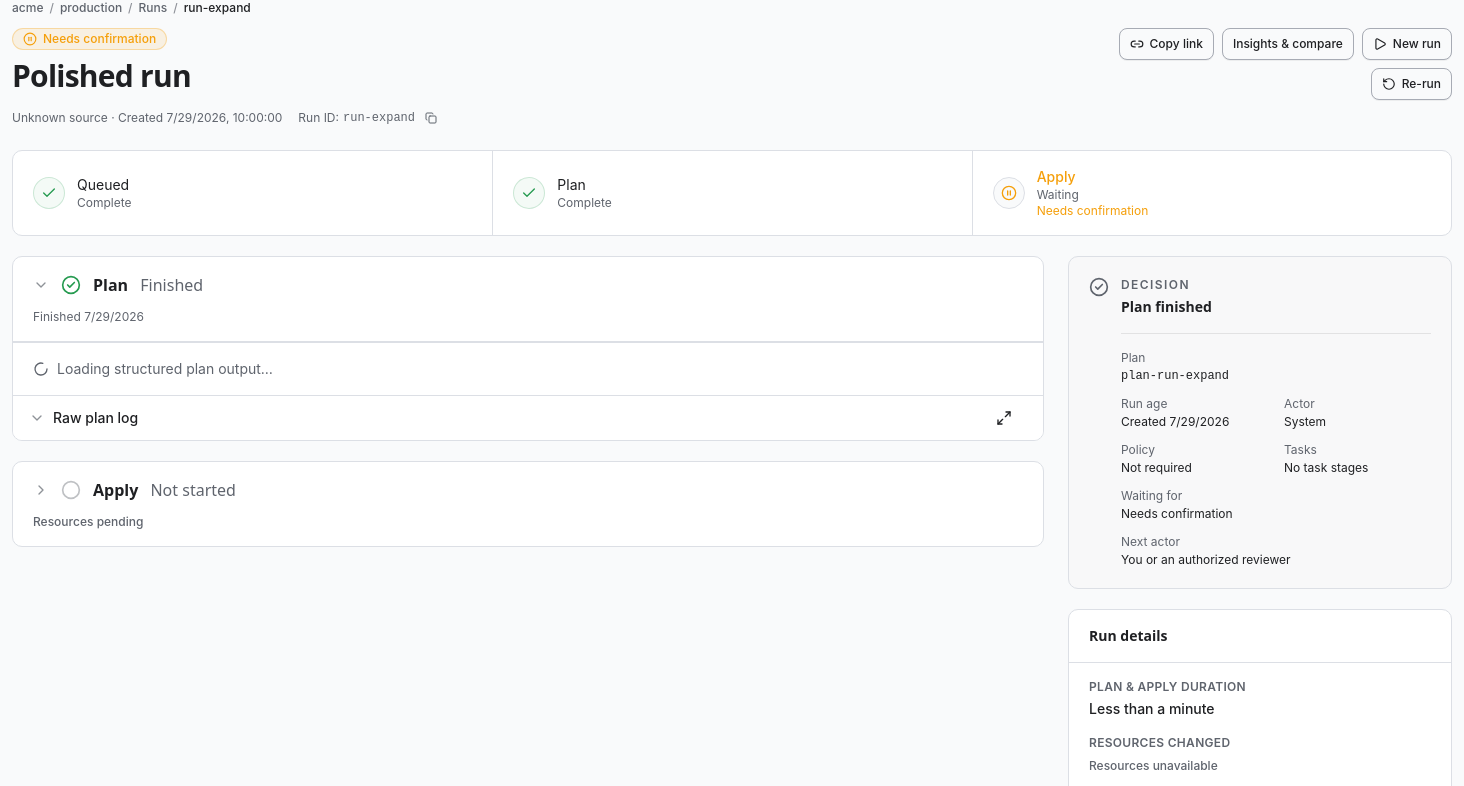
Test: an explicit apply collapse survives the apply starting
expect the element showing "Apply Not started Resources pending" is shown: met, box [12, 461, 1044, 547]
Click the heading "Apply Not started Resources pending". click: click(134, 504)
box: [33, 479, 236, 529]
(page scrolled)
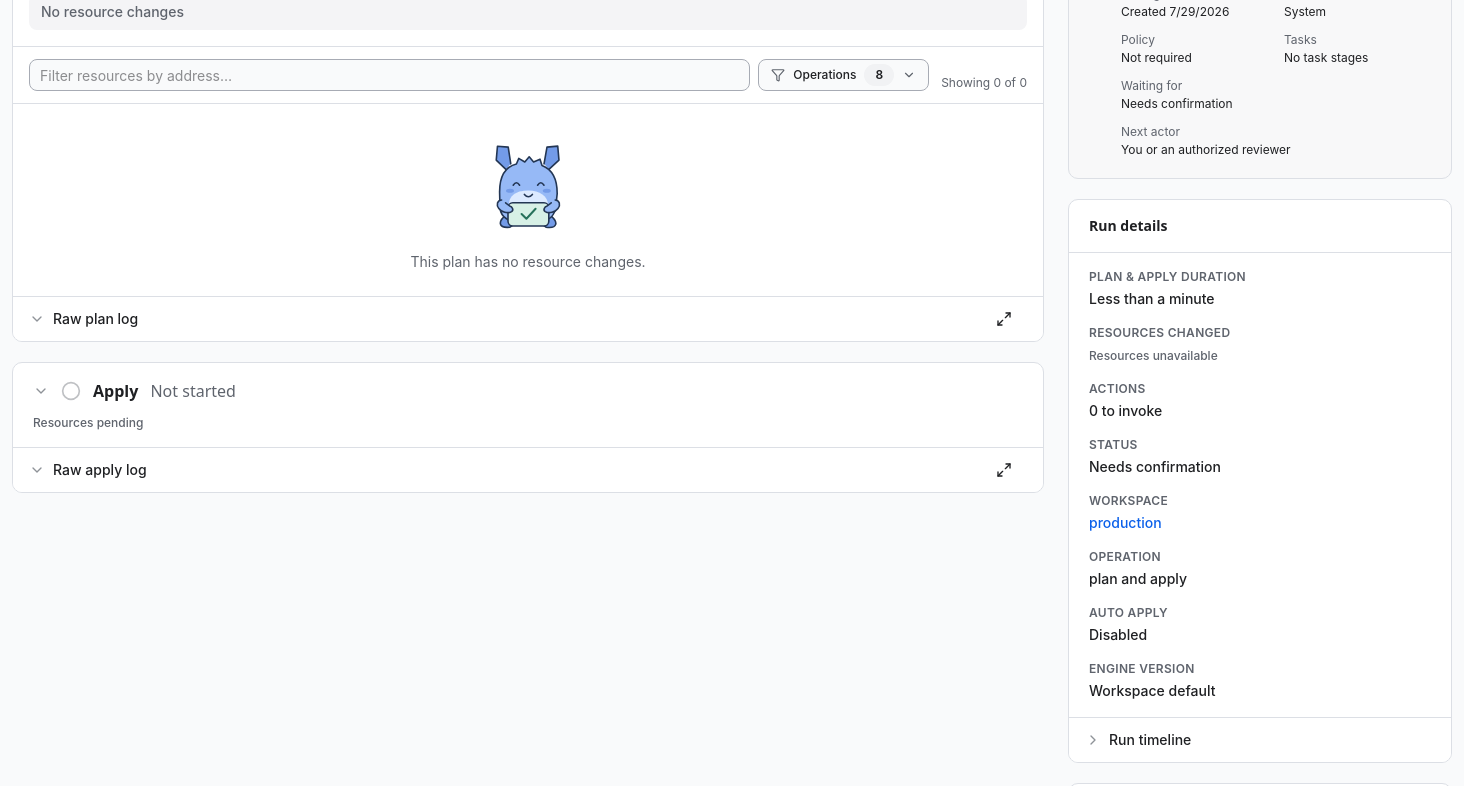
Click the heading "Apply Not started Resources pending". click: click(116, 391)
box: [13, 363, 1043, 448]
(page scrolled)
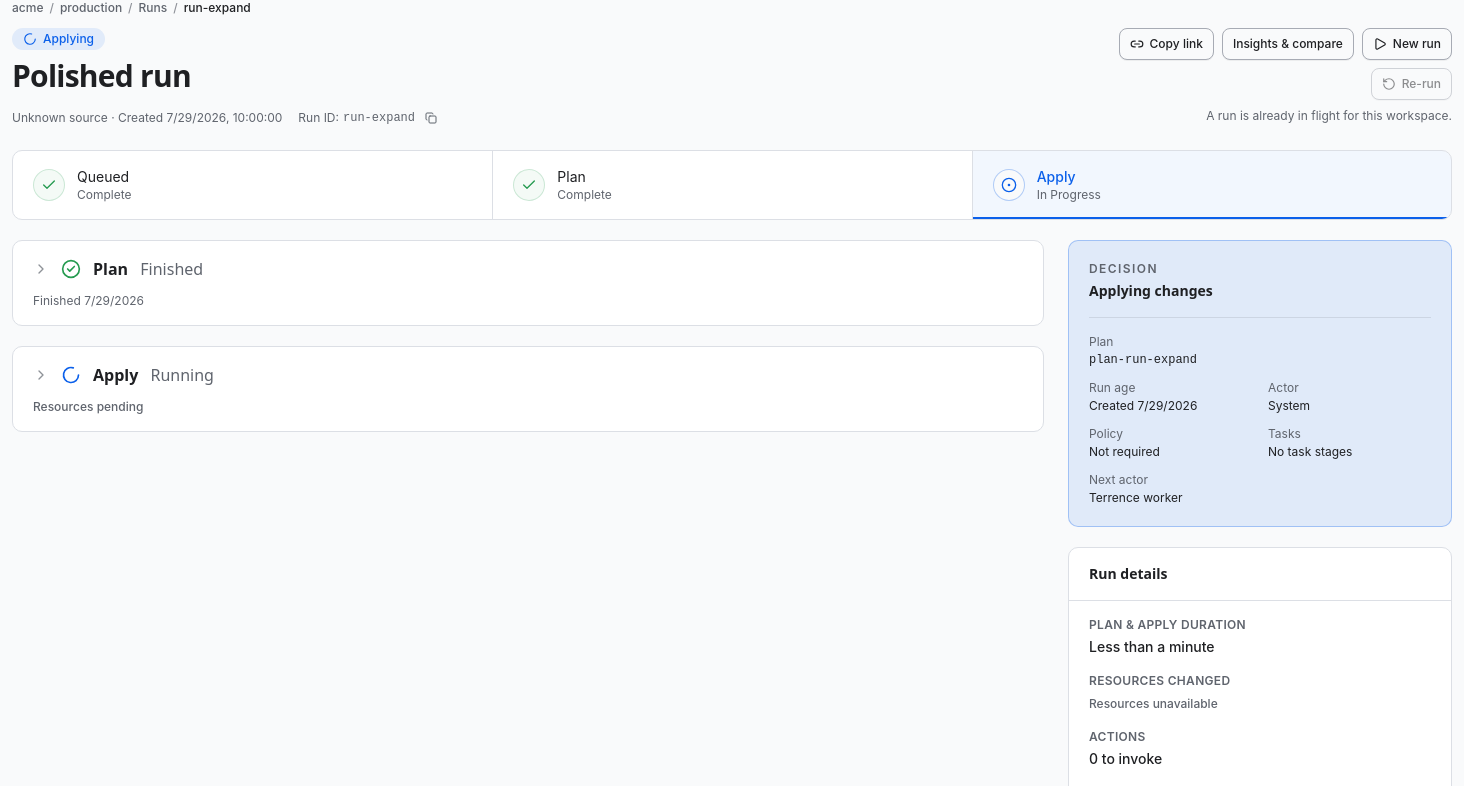
expect the text "Running" is shown: met, box [150, 364, 214, 386]
